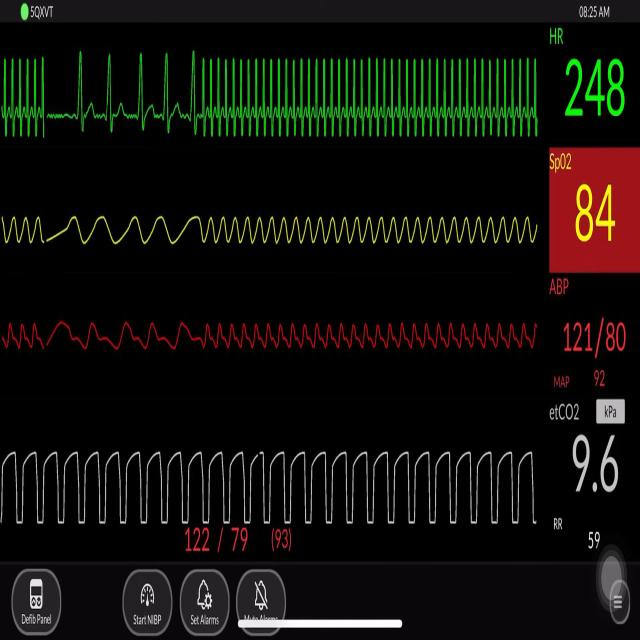danger: (194, 44, 544, 152), (0, 40, 50, 151)
